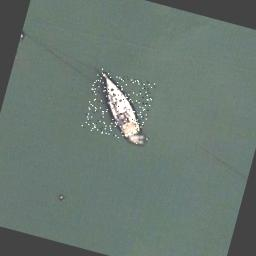boat: (94, 67, 144, 139), (127, 133, 146, 147)
